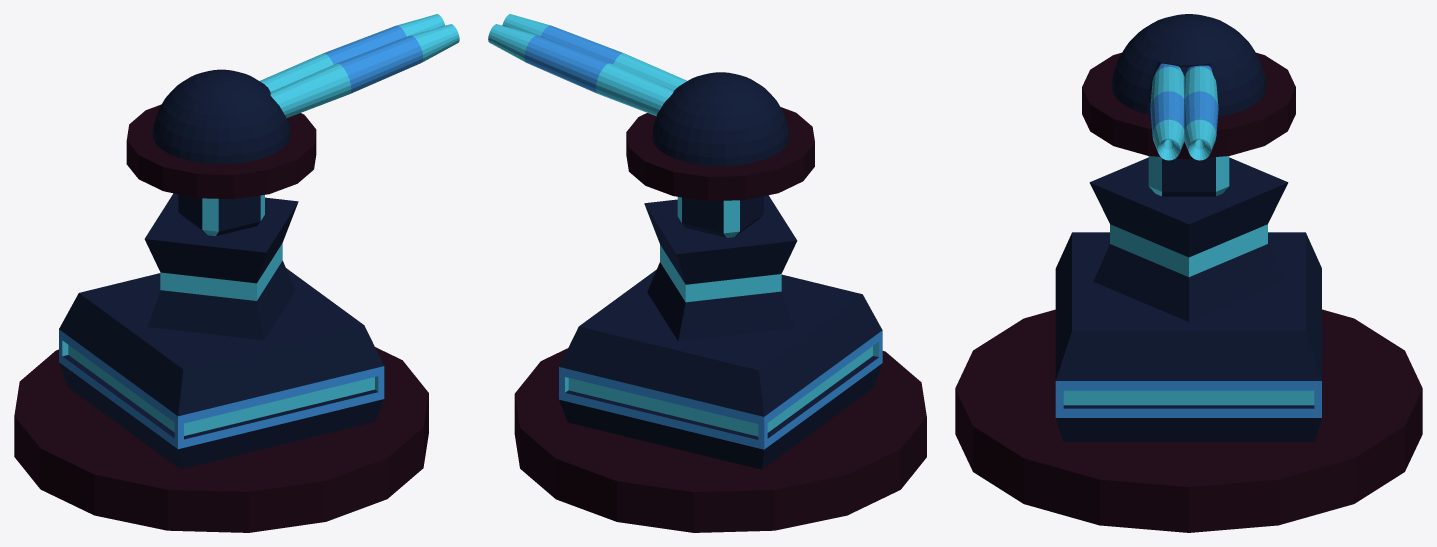
File: HydrogenTurret.fbx
The picture shows the model from 3 angles, left to right: view 1: azimuth 30°, elevation 25°; view 2: azimuth 150°, elevation 25°; view 3: azimuth 270°, elevation 25°; orthographic projection. The views are drawn at different scales.
Visible parts, largest first — view 1: Cube, Cylinder, Cube.001, Sphere, Cylinder.001, Torus, Torus.001, Cube.002; view 2: Cube, Cylinder, Cube.001, Sphere, Cylinder.001, Torus.001, Torus, Cube.002; view 3: Cylinder, Cube, Cube.001, Sphere, Cylinder.001, Cube.002, Torus, Torus.001.
Boxes of the visible parts, x1=… form: Cube: x1=59, y1=268, x2=384, y2=469; Cylinder: x1=14, y1=347, x2=428, y2=532; Cube.001: x1=144, y1=193, x2=298, y2=340; Sphere: x1=152, y1=69, x2=290, y2=163; Cylinder.001: x1=126, y1=104, x2=316, y2=199; Torus: x1=270, y1=24, x2=459, y2=118; Torus.001: x1=259, y1=14, x2=445, y2=92; Cube.002: x1=178, y1=194, x2=264, y2=236; Cube: x1=559, y1=269, x2=882, y2=469; Cylinder: x1=514, y1=348, x2=926, y2=532; Cube.001: x1=644, y1=195, x2=797, y2=341; Sphere: x1=652, y1=72, x2=789, y2=166; Cylinder.001: x1=626, y1=107, x2=814, y2=200; Torus.001: x1=488, y1=24, x2=673, y2=116; Torus: x1=502, y1=14, x2=687, y2=90; Cube.002: x1=677, y1=196, x2=763, y2=237; Cylinder: x1=955, y1=309, x2=1422, y2=532; Cube: x1=1055, y1=232, x2=1321, y2=441; Cube.001: x1=1089, y1=157, x2=1288, y2=321; Sphere: x1=1111, y1=14, x2=1266, y2=117; Cylinder.001: x1=1082, y1=52, x2=1295, y2=159; Cube.002: x1=1148, y1=156, x2=1229, y2=196; Torus: x1=1150, y1=63, x2=1184, y2=160; Torus.001: x1=1184, y1=65, x2=1218, y2=160.
Bounding box in the file's own units: 673 × 590 × 600.
